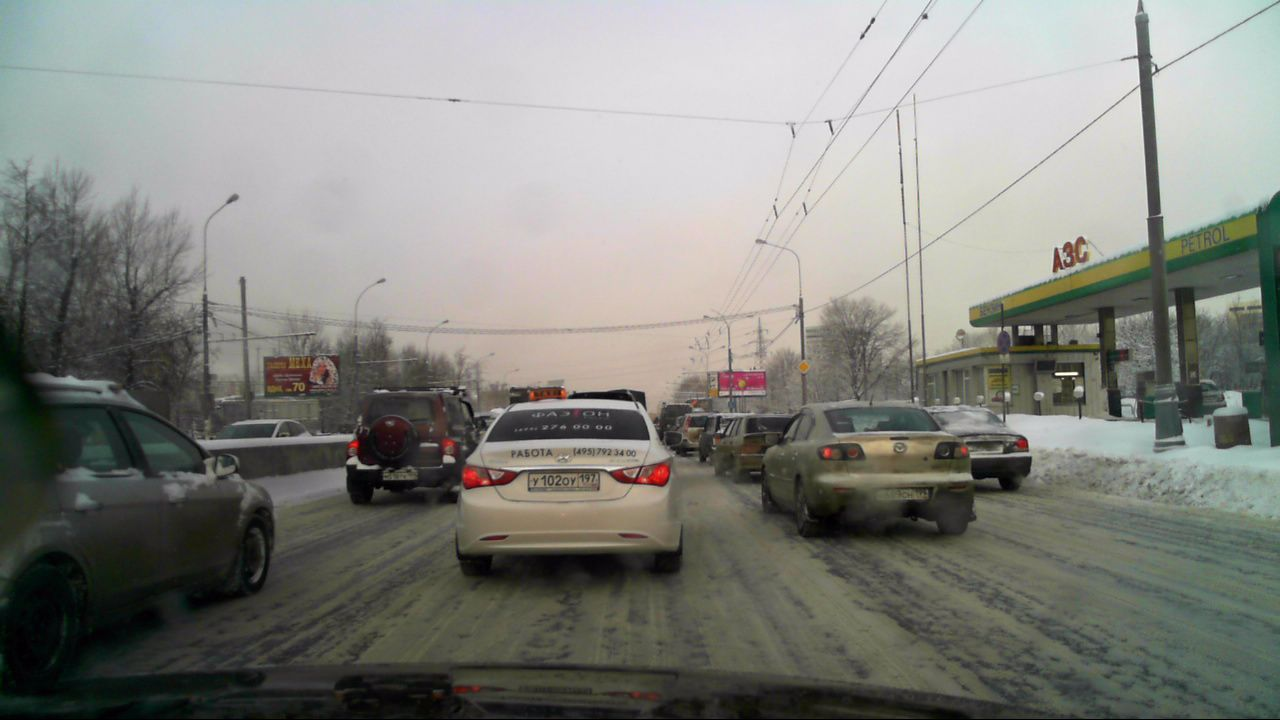No Parking: (994, 328, 1013, 355)
